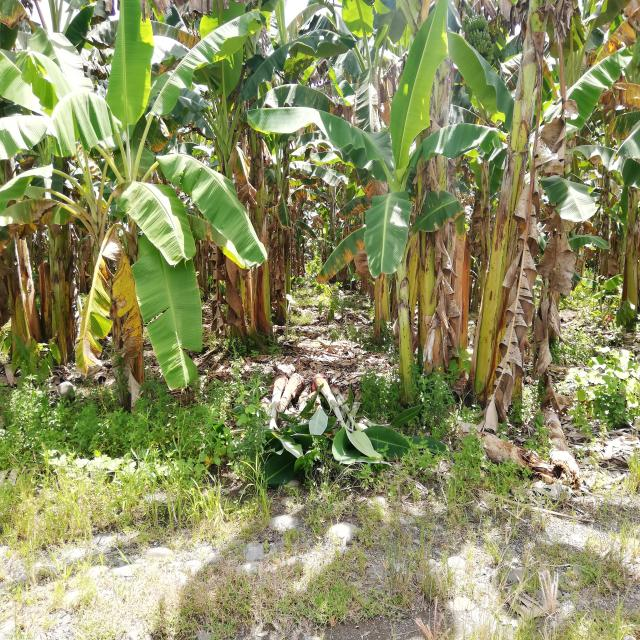Banana-plant: (470, 1, 561, 406), (246, 47, 284, 342), (378, 208, 420, 422)
